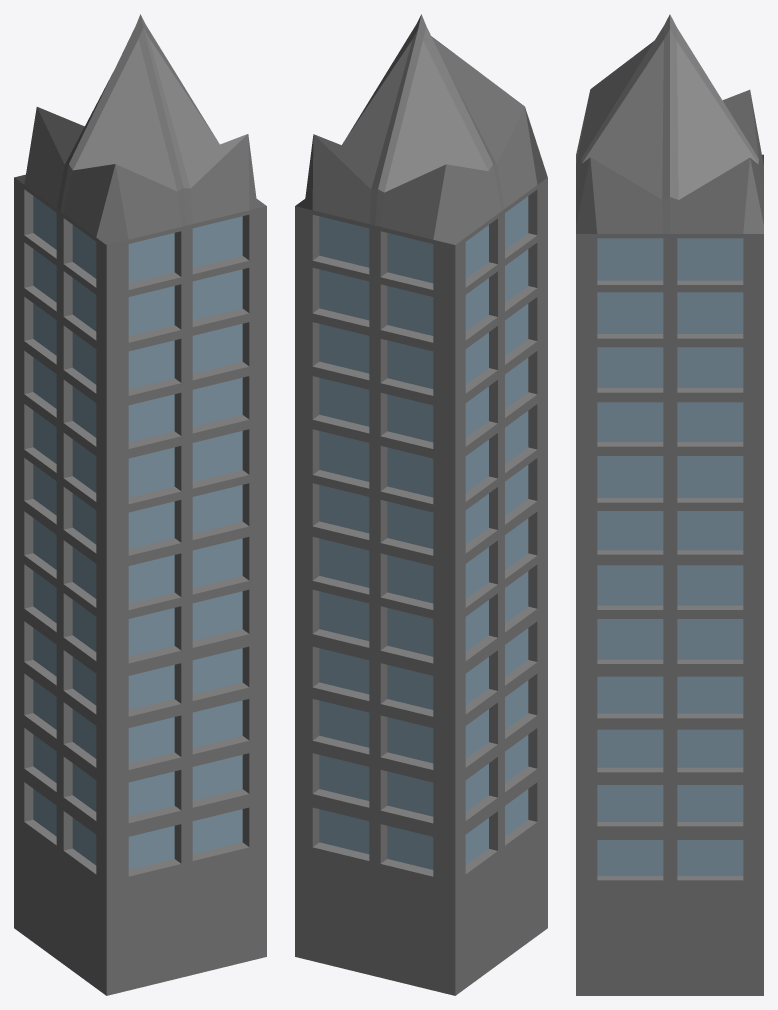
File: BUILD WITH POINT 2 final.fbx
3 views of the same model, side by side, from view 1: azimuth 30°, elevation 25°; view 2: azimuth 150°, elevation 25°; view 3: azimuth 270°, elevation 25° (orthographic).
Visible parts, largest first — view 1: pCube1; view 2: pCube1; view 3: pCube1.
Boxes of the visible parts, x1,y1,x2,y2 form: pCube1: (14, 14, 266, 995); pCube1: (295, 14, 547, 995); pCube1: (576, 14, 763, 995).
Size of the model in its own units: 4.34 by 24.02 by 4.34.
